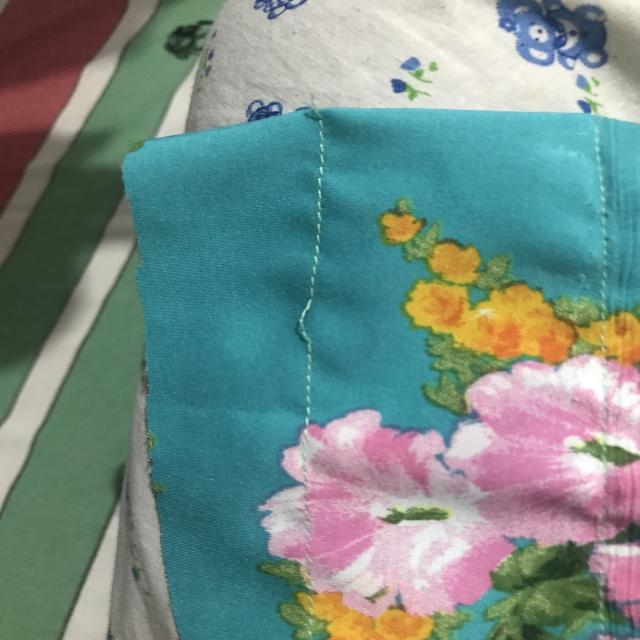good: (306, 171, 339, 256)
skip: (280, 290, 334, 354)
